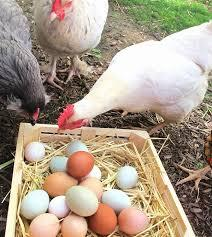egg: (66, 186, 100, 217), (18, 188, 49, 218), (120, 205, 149, 237), (94, 201, 118, 237), (115, 164, 144, 189), (29, 214, 59, 236), (68, 152, 95, 176), (63, 215, 92, 237), (102, 188, 130, 210), (47, 174, 76, 193), (25, 137, 47, 162), (52, 153, 68, 174)
